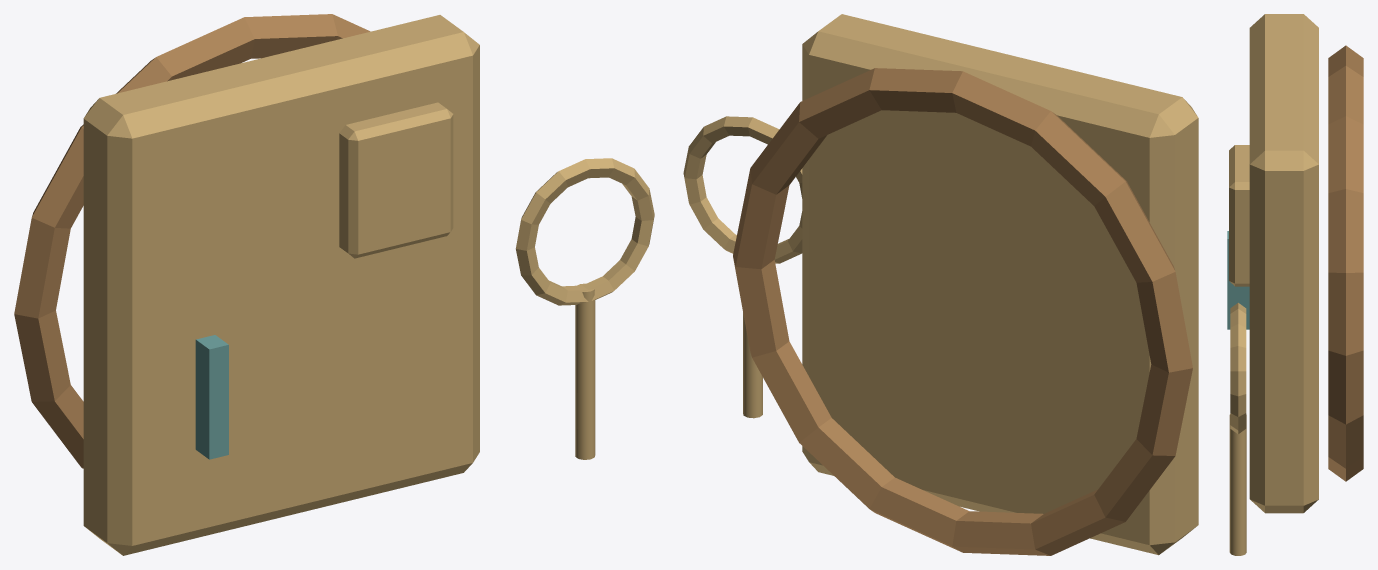
File: quadruped_mechanic.glb
3 views of the same model, side by side, from view 1: azimuth 30°, elevation 25°; view 2: azimuth 150°, elevation 25°; view 3: azimuth 270°, elevation 25° (orthographic). The views are drawn at different scales.
Visible parts, largest first — view 1: quadruped_mechanic; view 2: quadruped_mechanic; view 3: quadruped_mechanic.
Boxes of the visible parts, <box> form: quadruped_mechanic: <box>14,14,654,555</box>; quadruped_mechanic: <box>683,14,1198,555</box>; quadruped_mechanic: <box>1227,14,1363,555</box>.
Bounding box in the file's own units: 0.3549 × 0.284 × 0.0884.
